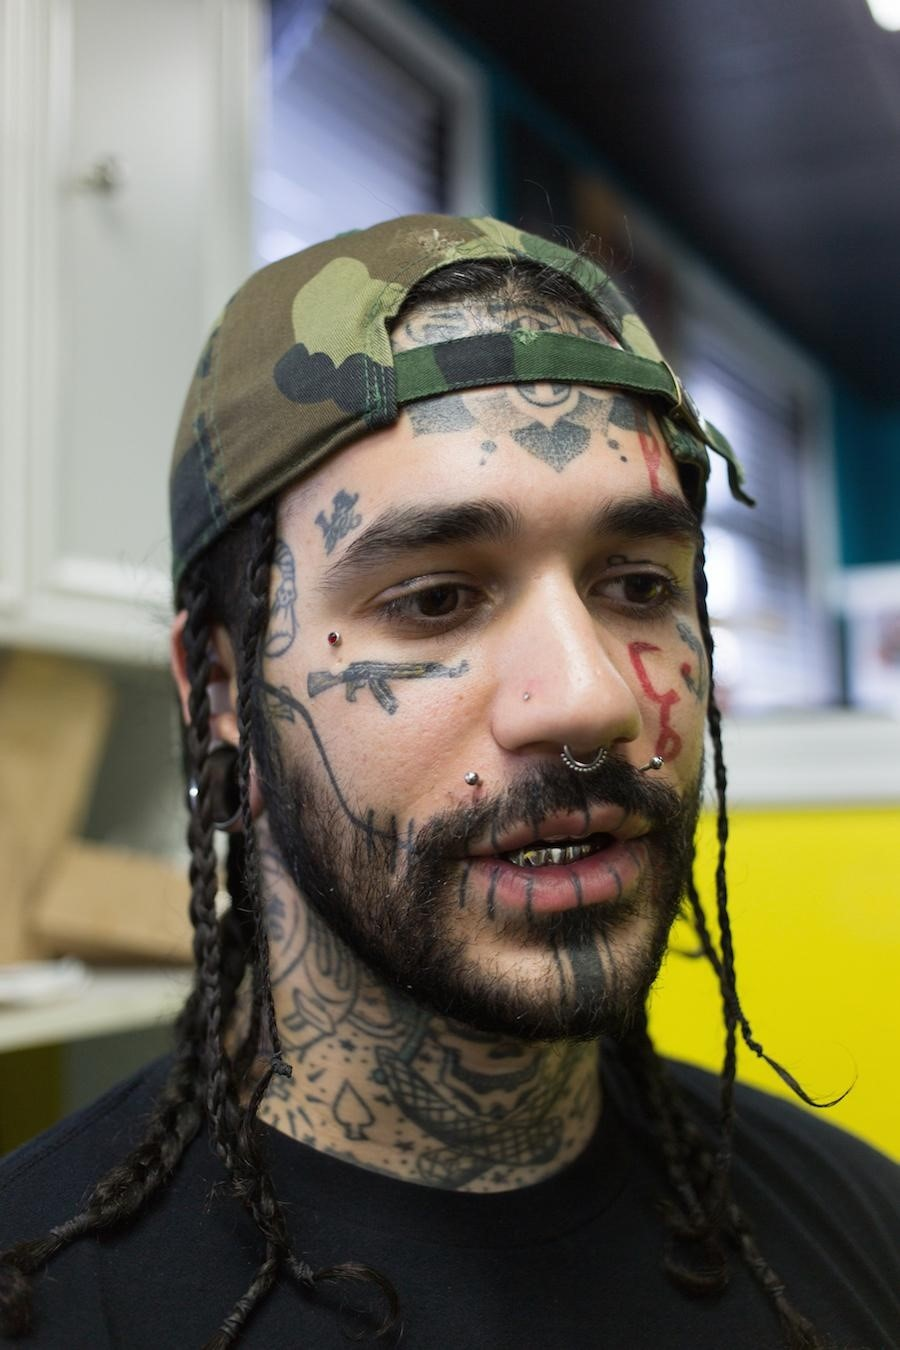face_no_mask: (155, 242, 786, 1034)
